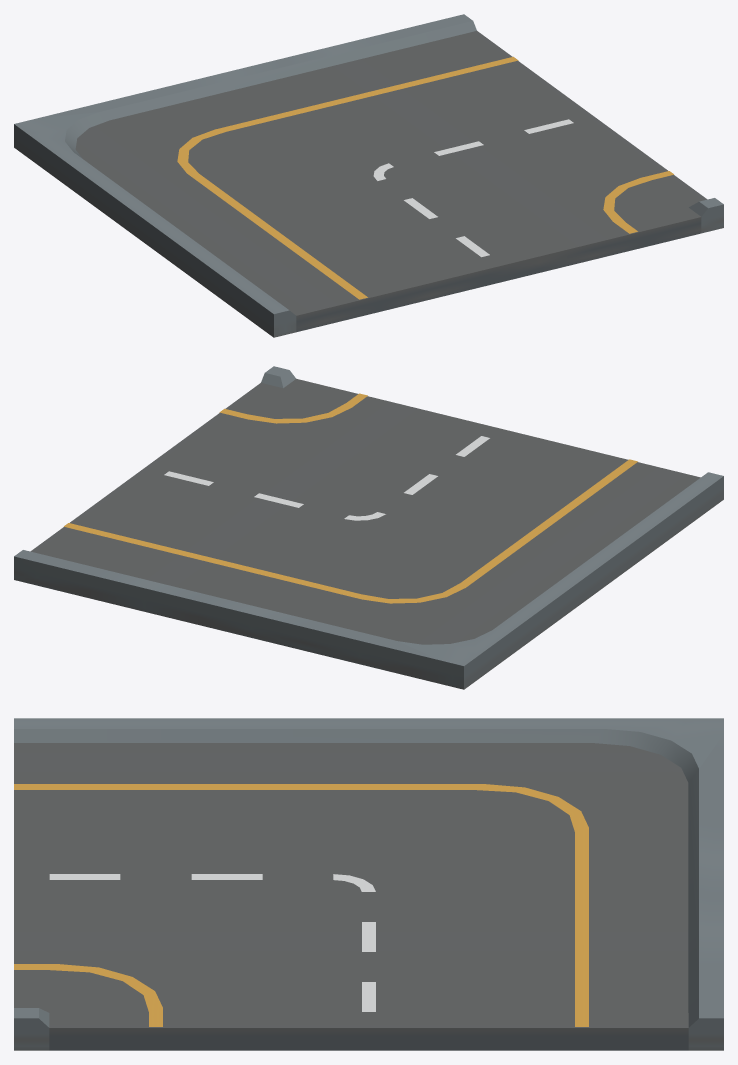
File: road_corner.gltf
The picture shows the model from 3 angles, top to bottom: view 1: azimuth 30°, elevation 25°; view 2: azimuth 150°, elevation 25°; view 3: azimuth 270°, elevation 25°; orthographic projection. The views are drawn at different scales.
Visible parts, largest first — view 1: road_corner; view 2: road_corner; view 3: road_corner.
Boxes of the visible parts, box(x1,y1,x2,y2) form: road_corner: box(14, 14, 723, 337); road_corner: box(14, 366, 723, 689); road_corner: box(14, 718, 723, 1050).
Size of the model in its own units: 2 by 0.1 by 2.
Materials: 1 (1 with a texture image).
